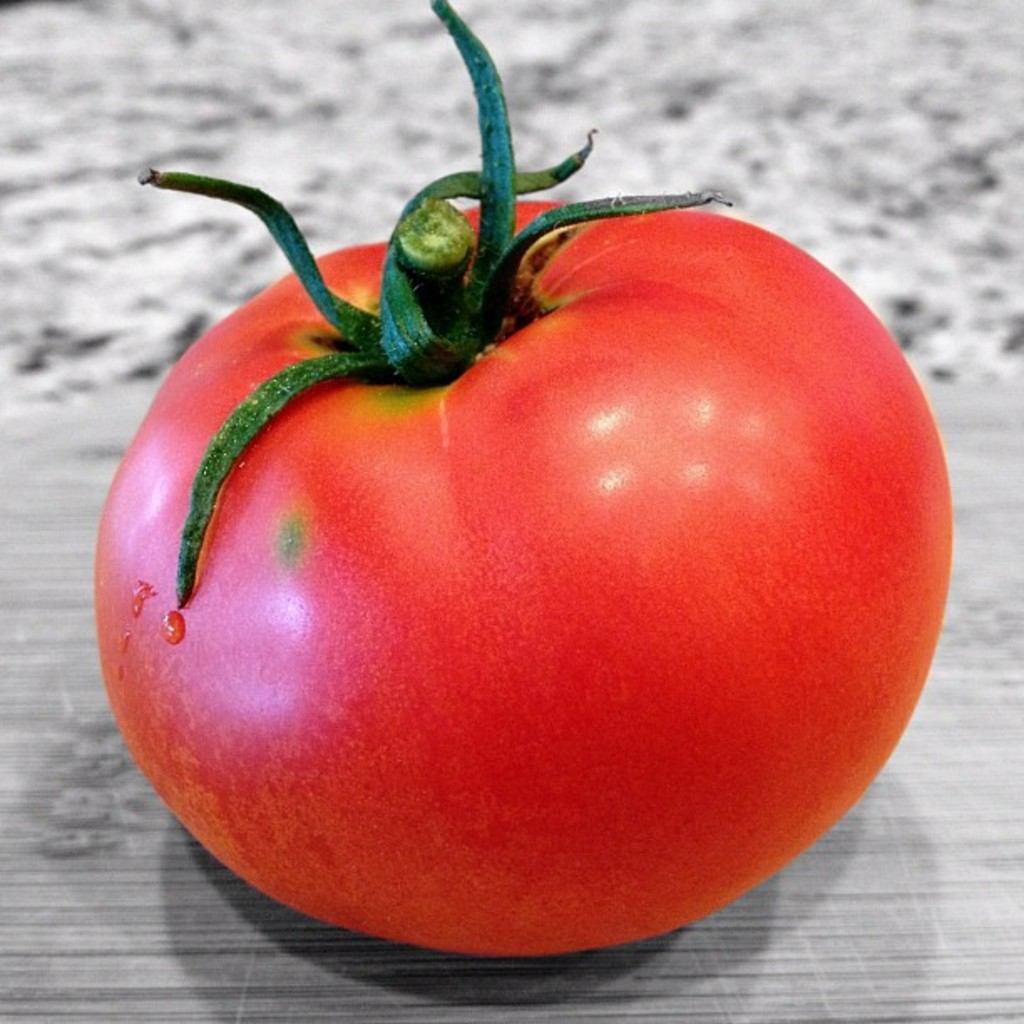Tomato: (75, 0, 953, 958)
